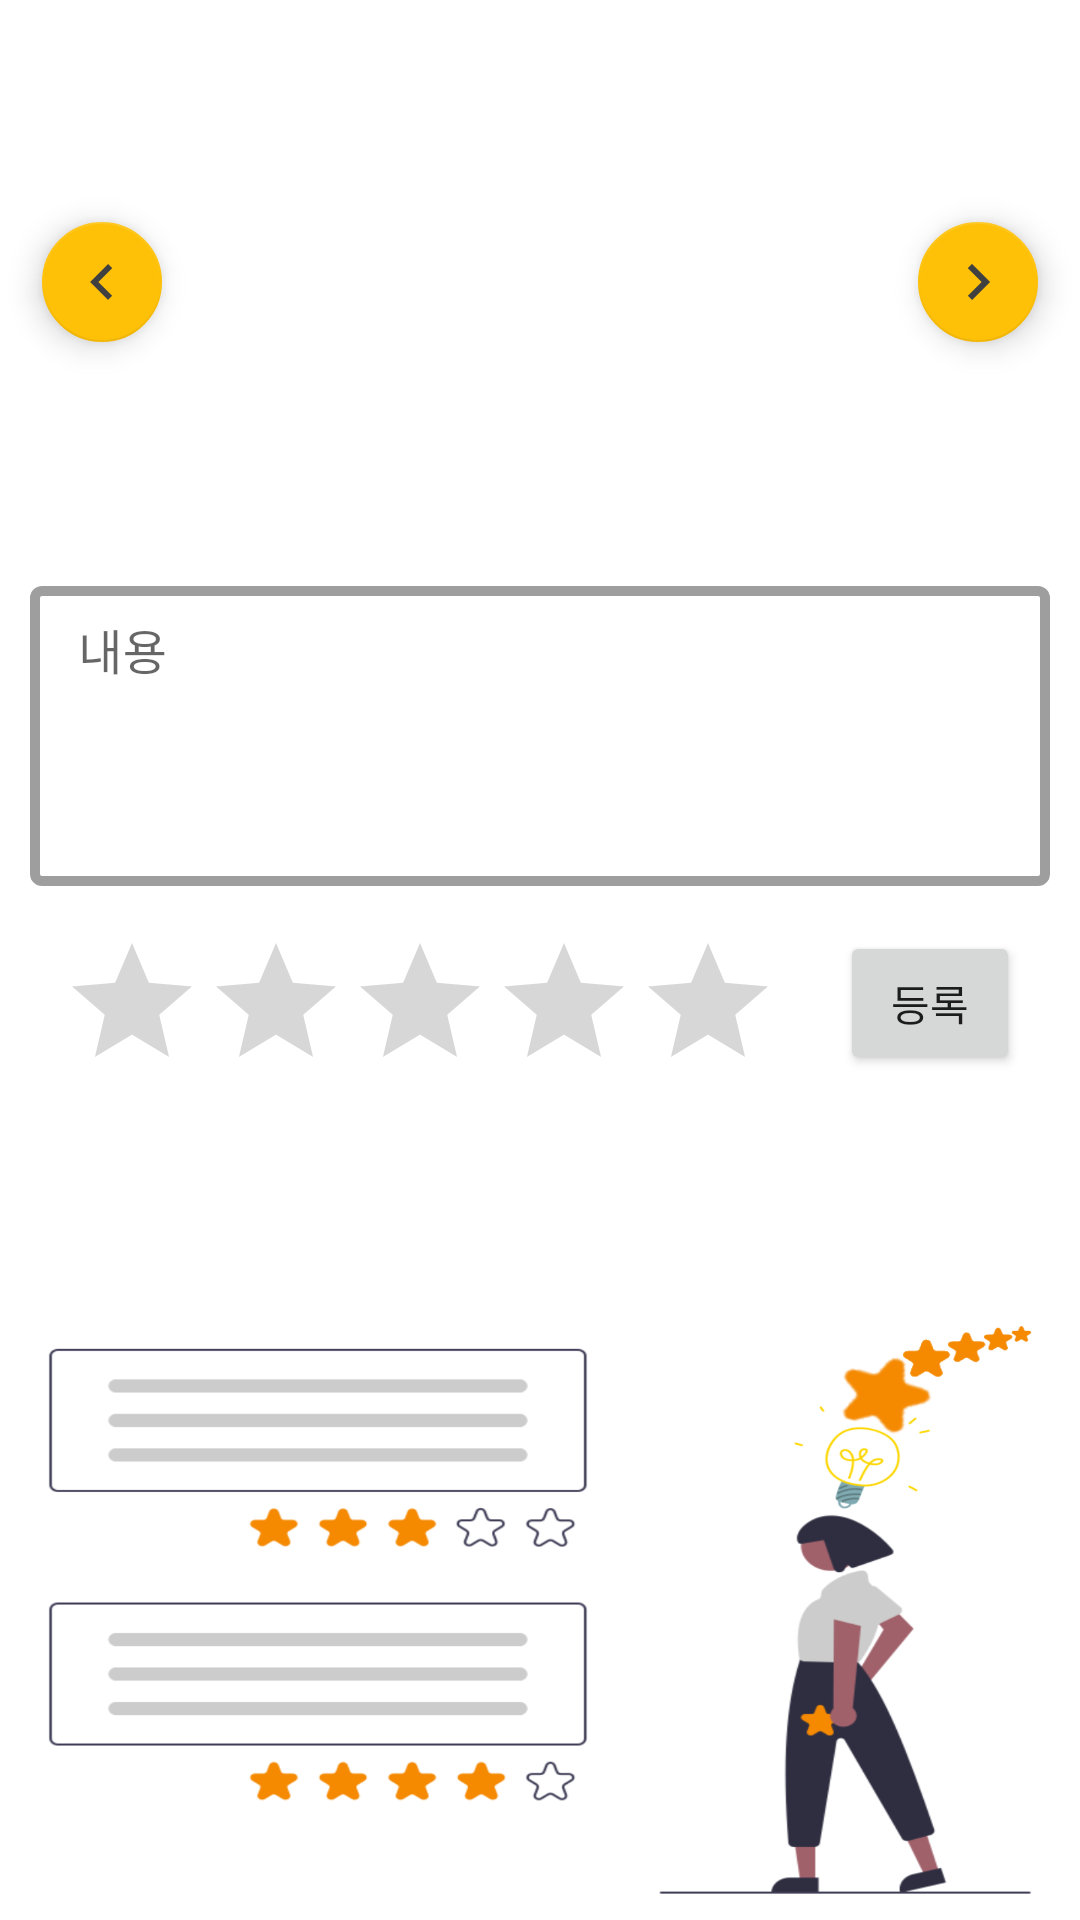

Icon bounding boxes for this 1080 × 1920 phone screenshot, format (x1, y1, x2, y2):
left: (40, 222, 162, 343)
right: (918, 222, 1040, 343)
